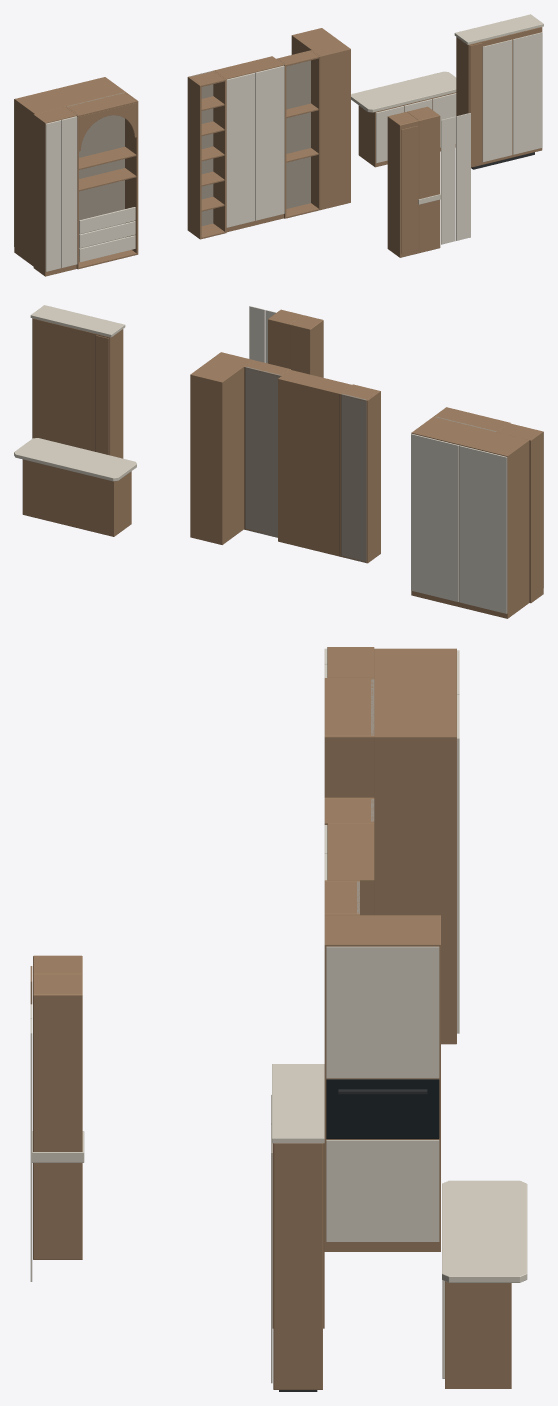
File: millwork.glb
The picture shows the model from 3 angles, top to bottom: view 1: azimuth 30°, elevation 25°; view 2: azimuth 150°, elevation 25°; view 3: azimuth 270°, elevation 25°; orthographic projection. The views are drawn at different scales.
Parts seen in each view (by area): view 1: Tower carcass, Carcass.001, Door.005, Door.004, Floating wardrobe door, Floating wardrobe door.001, Back, Back.002, Entry hanging niche, Carcass, Door, Door.001 (+29 smaller); view 2: Carcass.002, Tower carcass, Floating wardrobe carcass, Door.002, Door.003, Carcass.001, Island base, Back.002, Back.001, Carcass, Island worktop, Side.002 (+7 smaller); view 3: Carcass.001, Appliance tower front.002, Entry hanging niche, Floating wardrobe carcass, Appliance tower front, Island worktop, Island base, Tower carcass, Appliance tower front.001, Floating wardrobe top, Carcass.002, Side.001 (+6 smaller).
Part boxes in pixels (x1,y1,x2,y2): Tower carcass: (291, 28, 350, 209); Carcass.001: (14, 77, 125, 266); Door.005: (255, 65, 284, 220); Door.004: (226, 72, 255, 227); Floating wardrobe door: (482, 39, 512, 162); Floating wardrobe door.001: (513, 32, 542, 154); Back: (67, 92, 124, 255); Back.002: (278, 52, 310, 208); Entry hanging niche: (407, 106, 440, 253); Carcass: (33, 107, 76, 276); Door: (45, 120, 61, 271); Door.001: (61, 116, 77, 267); Carcass.002: (278, 370, 351, 556); Tower carcass: (190, 352, 252, 544); Floating wardrobe carcass: (32, 318, 123, 458); Door.002: (459, 445, 507, 613); Door.003: (411, 433, 459, 601); Carcass.001: (411, 417, 529, 618); Island base: (22, 459, 131, 536); Back.002: (245, 366, 280, 537); Back.001: (341, 393, 366, 562); Carcass: (498, 423, 543, 603); Island worktop: (14, 438, 136, 481); Side.002: (366, 391, 380, 563); Carcass.001: (374, 648, 456, 1044); Appliance tower front.002: (326, 946, 439, 1078); Entry hanging niche: (33, 974, 82, 1259); Floating wardrobe carcass: (273, 1143, 322, 1389); Appliance tower front: (326, 1140, 439, 1241); Island worktop: (442, 1180, 527, 1282); Island base: (445, 1281, 511, 1388); Tower carcass: (324, 915, 440, 1251); Appliance tower front.001: (326, 1079, 439, 1138); Floating wardrobe top: (272, 1064, 324, 1143); Carcass.002: (327, 823, 374, 915); Side.001: (324, 735, 374, 797).
Size of the model in its own units: 7.88 by 2.38 by 3.49.
